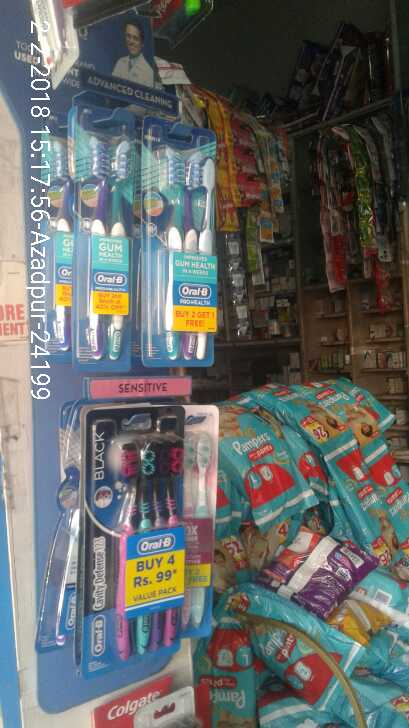pharmacy: (87, 423, 182, 648), (147, 132, 222, 377), (70, 119, 133, 369), (216, 395, 313, 529)
